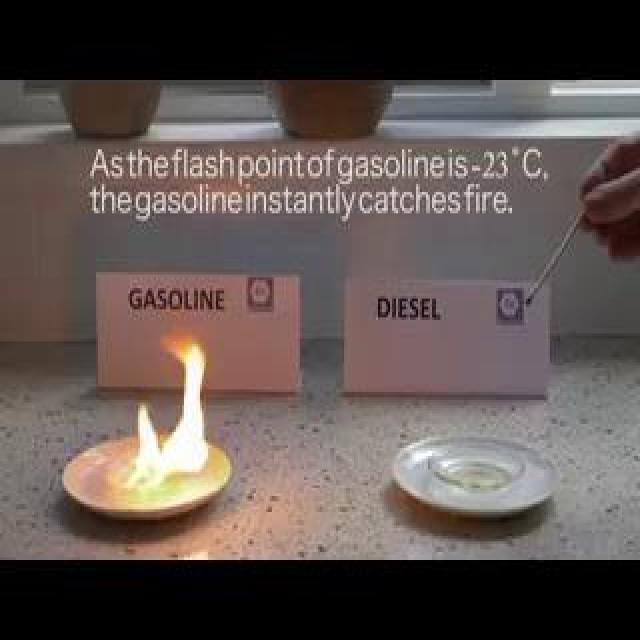Fire: (114, 198, 168, 400)
